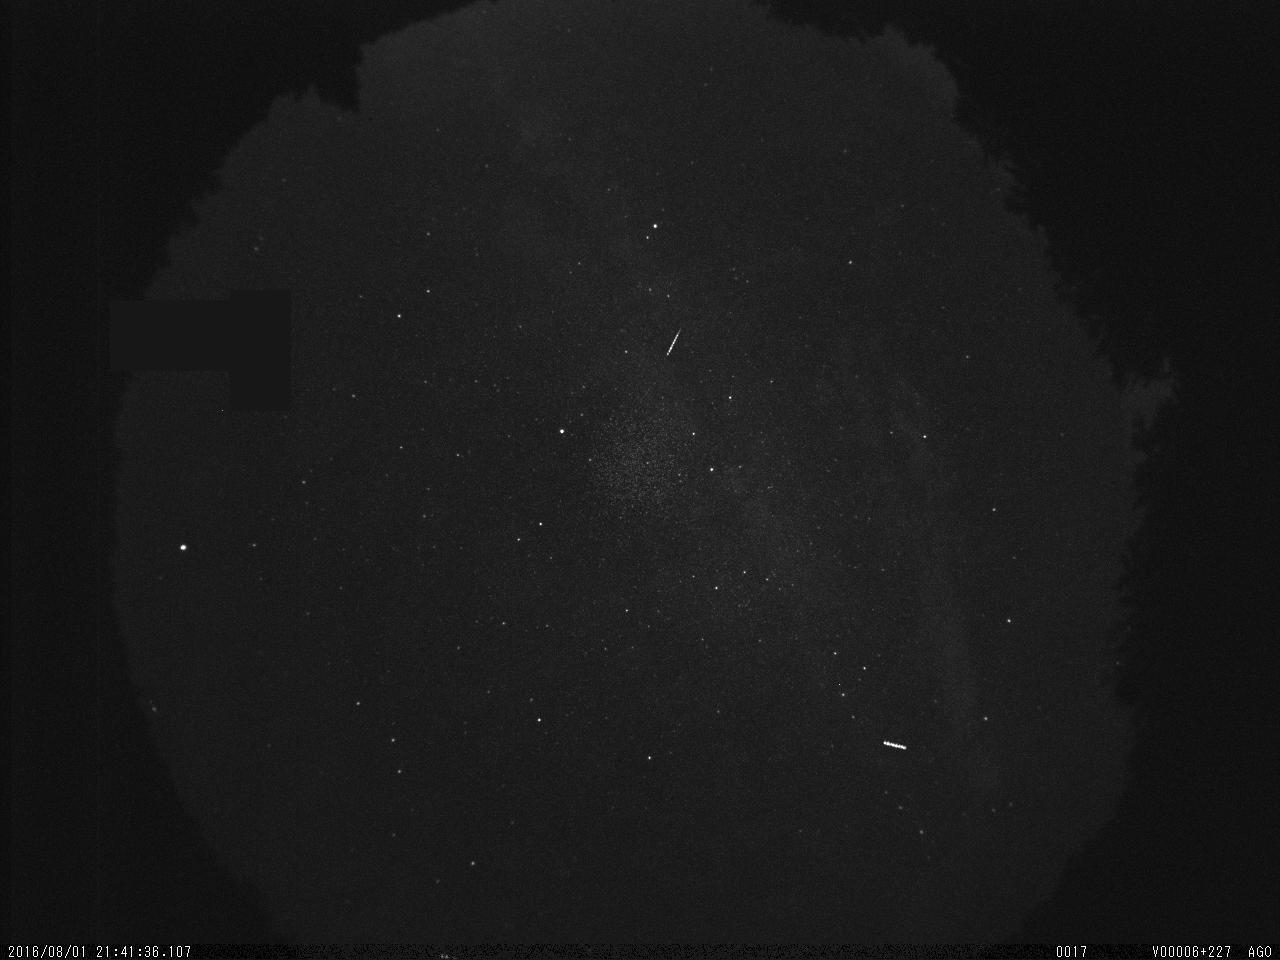meteor: (656, 319, 693, 361)
satelite: (877, 731, 917, 766)
